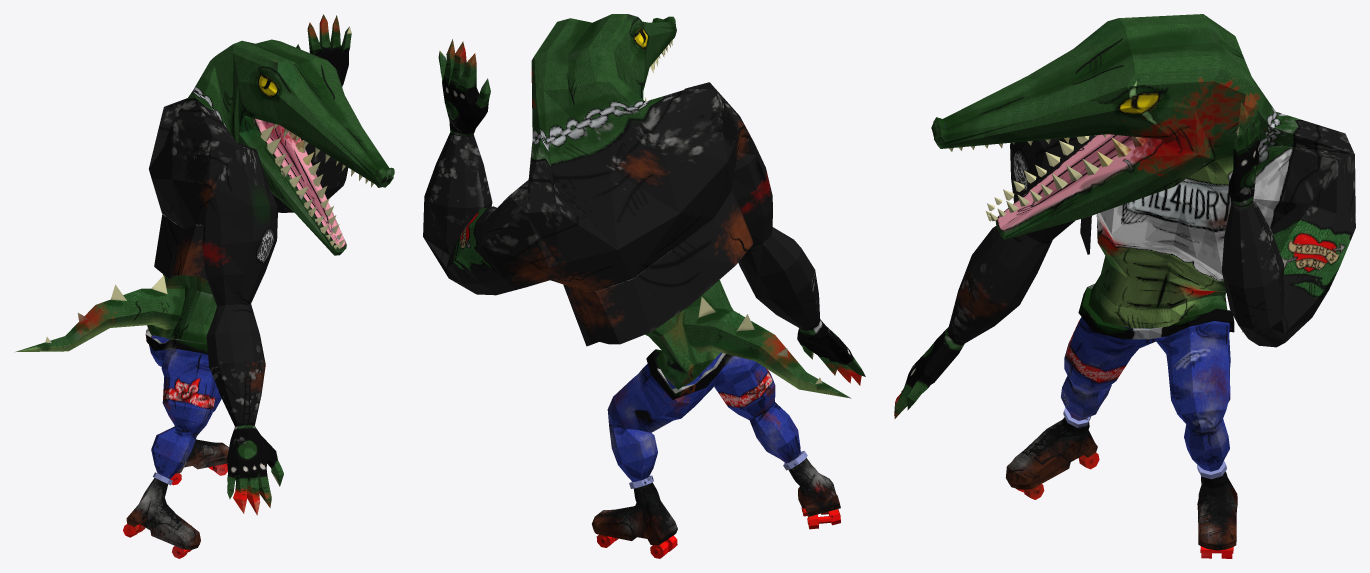
Rendered from cocodrilaBonesSelect_000062.obj.
3 views of the same model, side by side, from view 1: azimuth 30°, elevation 25°; view 2: azimuth 150°, elevation 25°; view 3: azimuth 270°, elevation 25° (orthographic). The views are drawn at different scales.
Parts seen in each view (by area): view 1: Crocodile.002_Cylinder.002; view 2: Crocodile.002_Cylinder.002; view 3: Crocodile.002_Cylinder.002.
Boxes of the visible parts, x1,y1,x2,y2 form: Crocodile.002_Cylinder.002: (14,14,394,558); Crocodile.002_Cylinder.002: (423,14,865,558); Crocodile.002_Cylinder.002: (894,14,1355,558).
Size of the model in its own units: 5.25 by 6.16 by 4.62.
